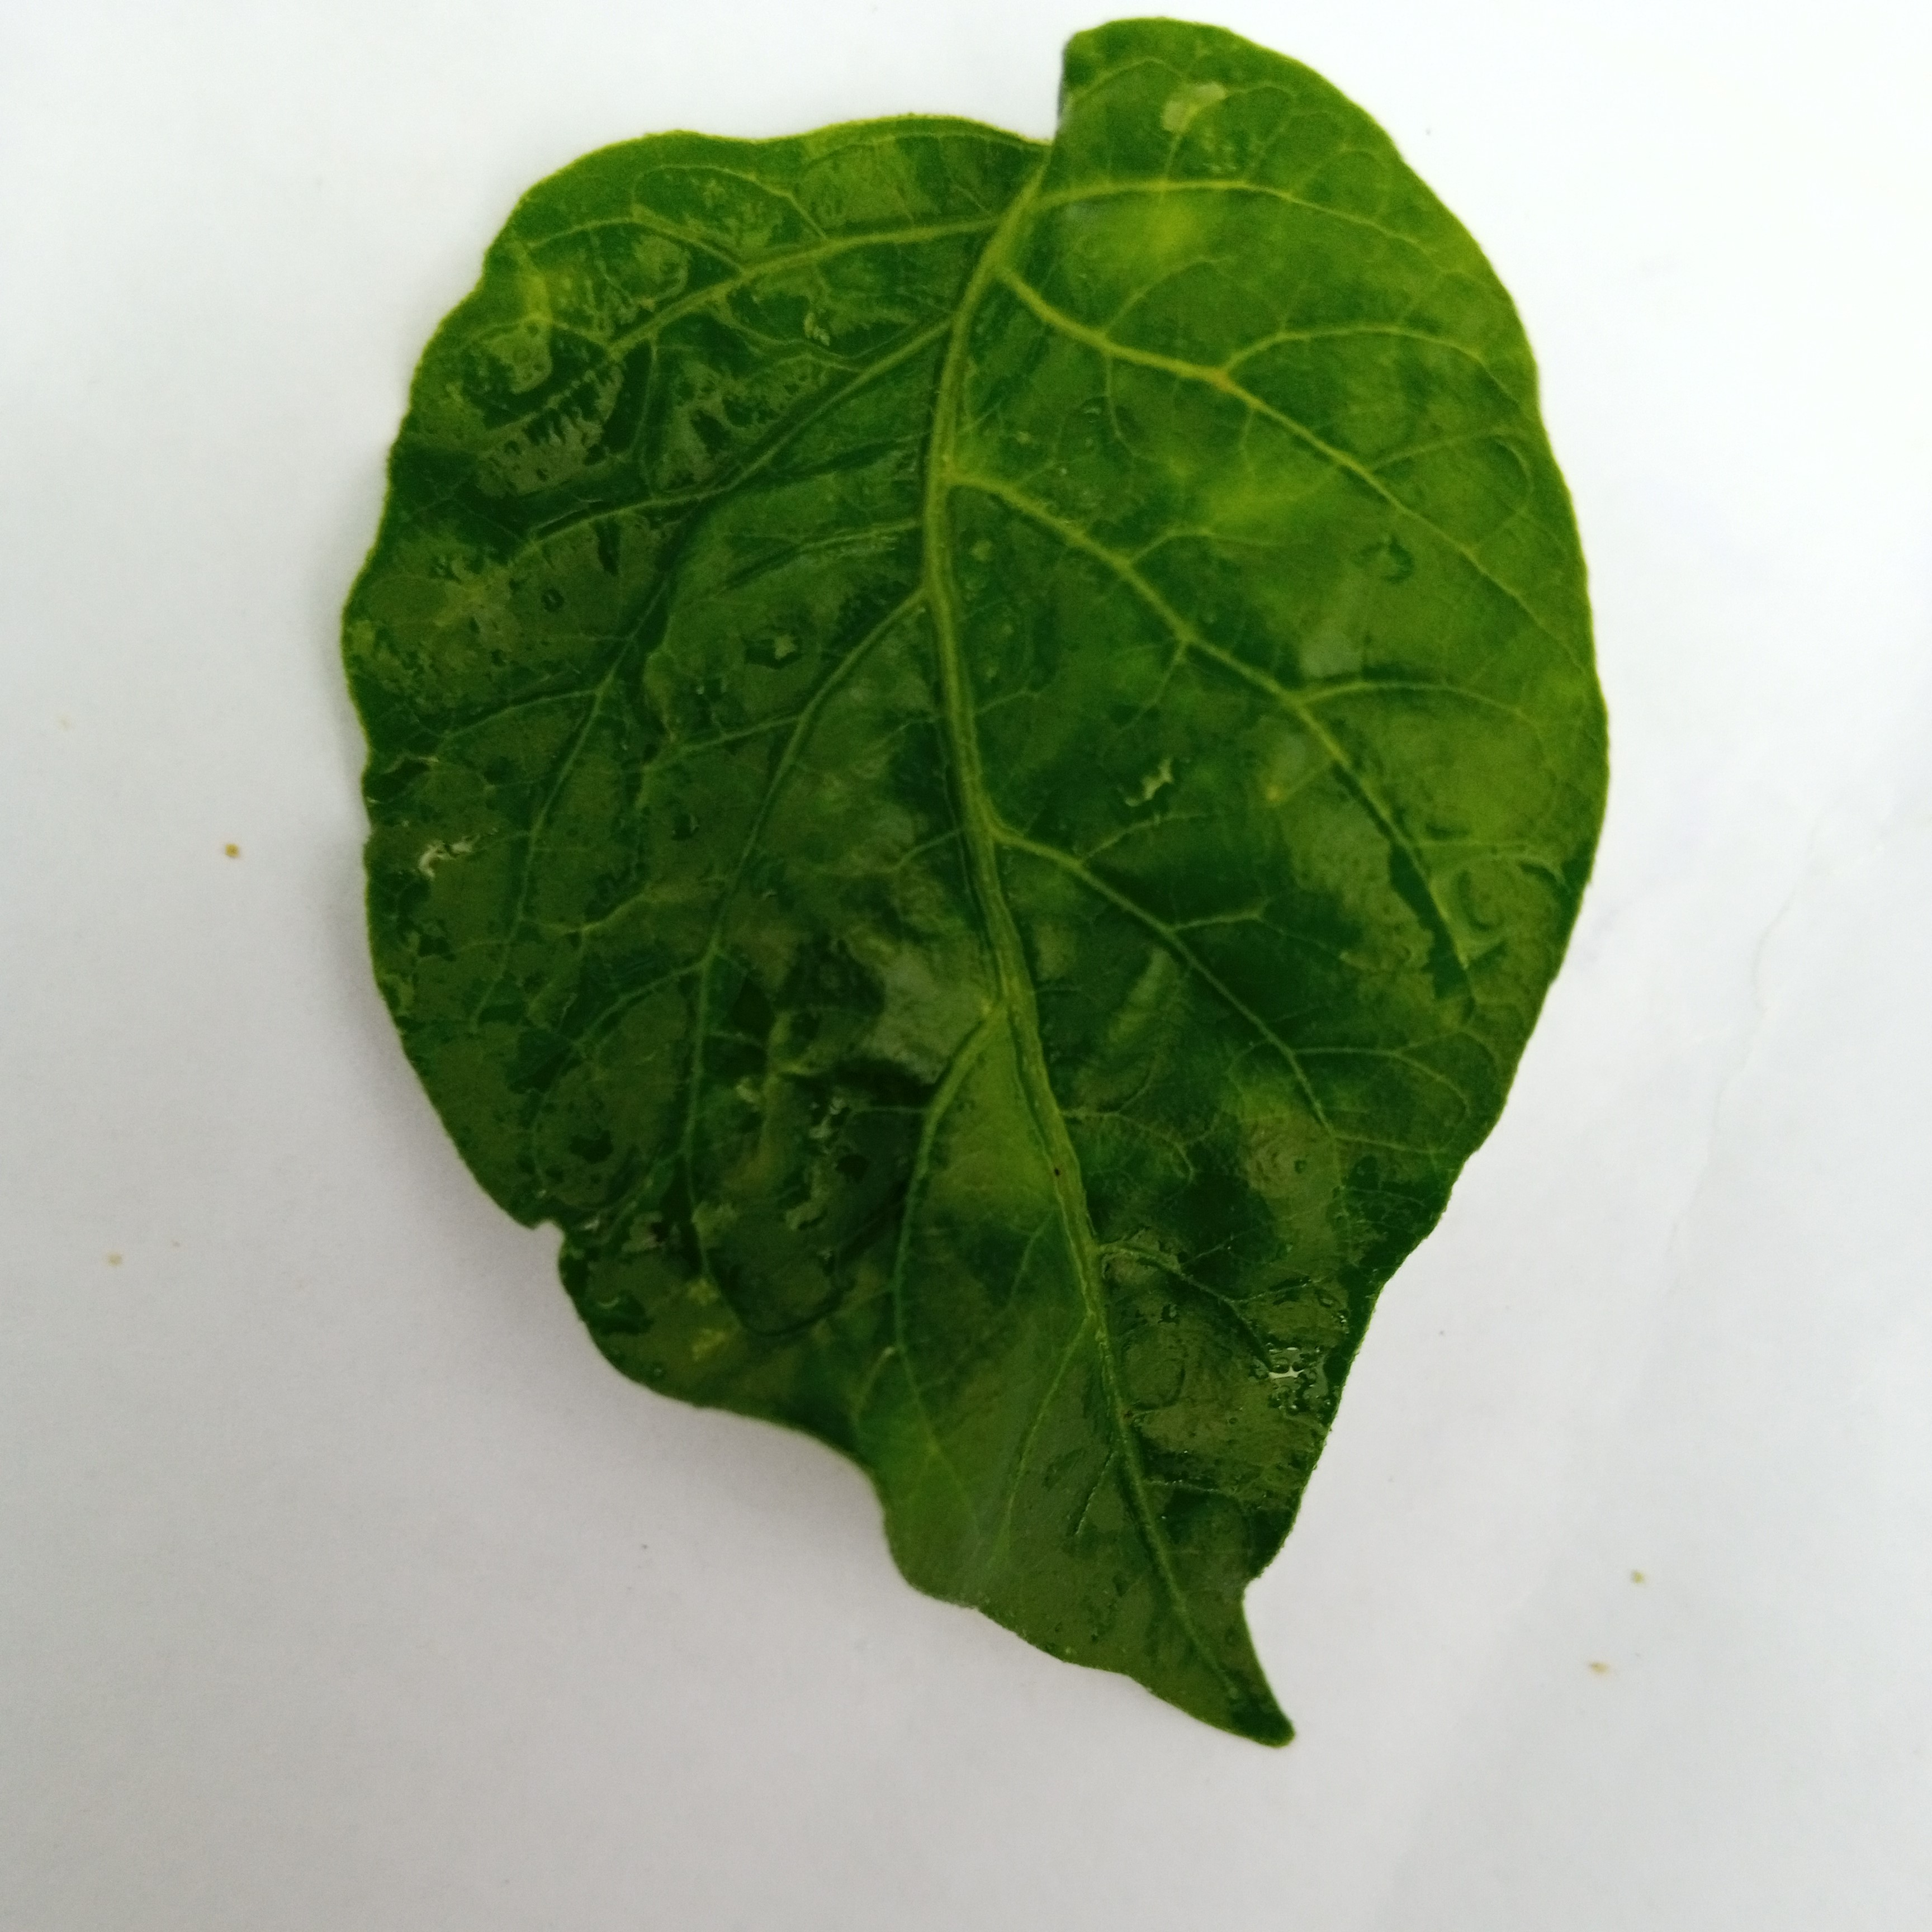Leaf: (278, 18, 1681, 1806)
